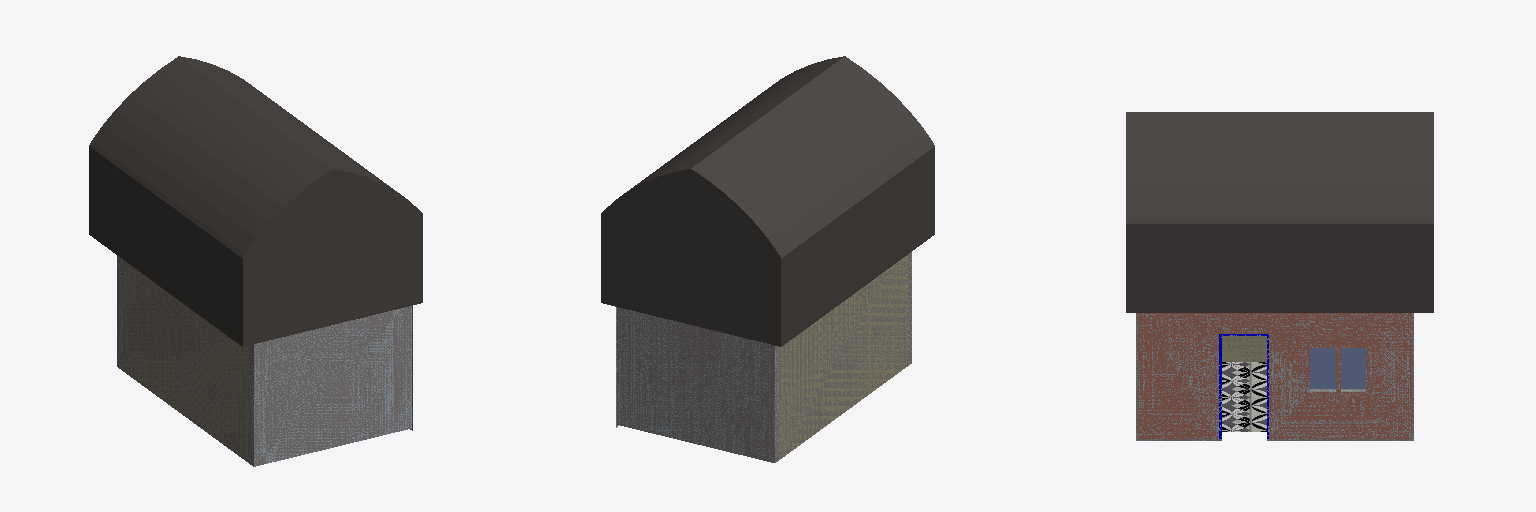
The picture shows the model from 3 angles: view 1: azimuth 30°, elevation 25°; view 2: azimuth 150°, elevation 25°; view 3: azimuth 270°, elevation 25°; orthographic projection.
Parts seen in each view (by area): view 1: Mesh1 roof1 Model, Mesh3 Model; view 2: Mesh1 roof1 Model, Mesh3 Model; view 3: Mesh1 roof1 Model, Mesh3 Model.
Part boxes in pixels (bbox=[...]): Mesh1 roof1 Model: bbox=[89, 56, 422, 346]; Mesh3 Model: bbox=[117, 256, 412, 466]; Mesh1 roof1 Model: bbox=[601, 56, 934, 346]; Mesh3 Model: bbox=[616, 252, 911, 462]; Mesh1 roof1 Model: bbox=[1126, 112, 1433, 312]; Mesh3 Model: bbox=[1136, 313, 1413, 440].
Bounding box in the file's own units: 3.26 × 4.95 × 4.81.
9 materials, 1 textured.